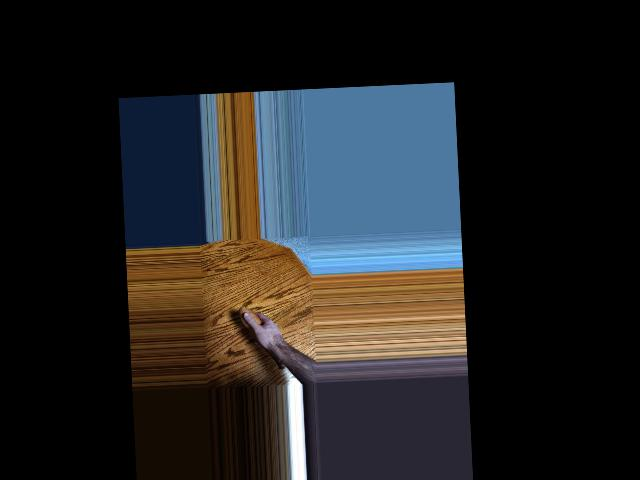sweet_potato: (239, 303, 288, 373)
